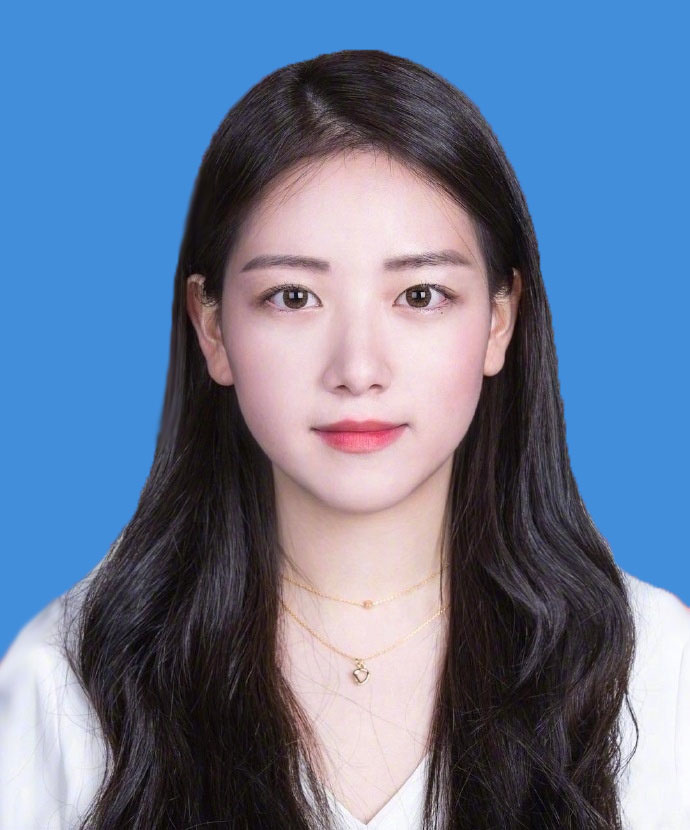unmask: (236, 178, 474, 501)
